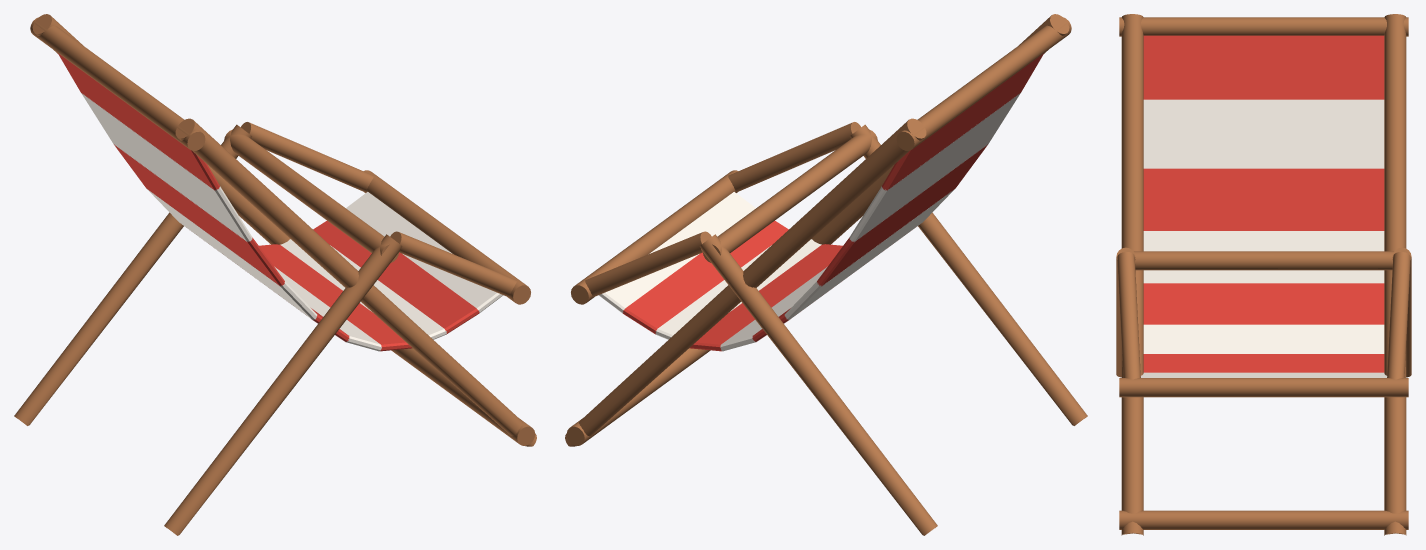
Rendered from deckchair.glb.
The picture shows the model from 3 angles, left to right: view 1: azimuth 30°, elevation 25°; view 2: azimuth 150°, elevation 25°; view 3: azimuth 270°, elevation 25°; orthographic projection. The views are drawn at different scales.
Visible parts, largest first — view 1: deckchair; view 2: deckchair; view 3: deckchair.
Boxes of the visible parts, x1=… form: deckchair: x1=14, y1=14, x2=536, y2=535; deckchair: x1=565, y1=14, x2=1087, y2=535; deckchair: x1=1116, y1=14, x2=1411, y2=535.
Bounding box in the file's own units: 0.9043 × 0.9367 × 0.674.
1 material, 1 textured.
